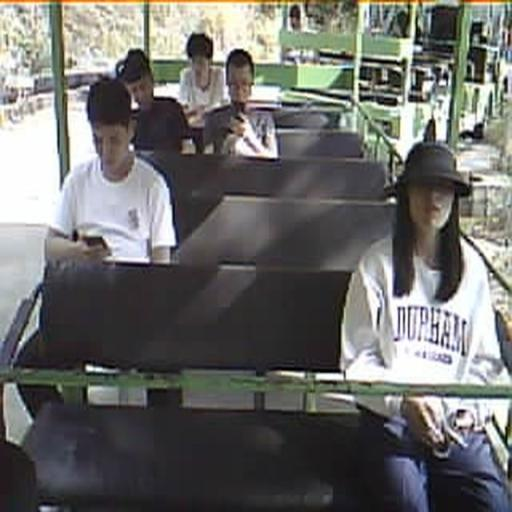persona: (339, 140, 511, 510), (45, 77, 178, 268), (202, 48, 280, 159), (114, 48, 192, 154), (176, 31, 228, 151)
